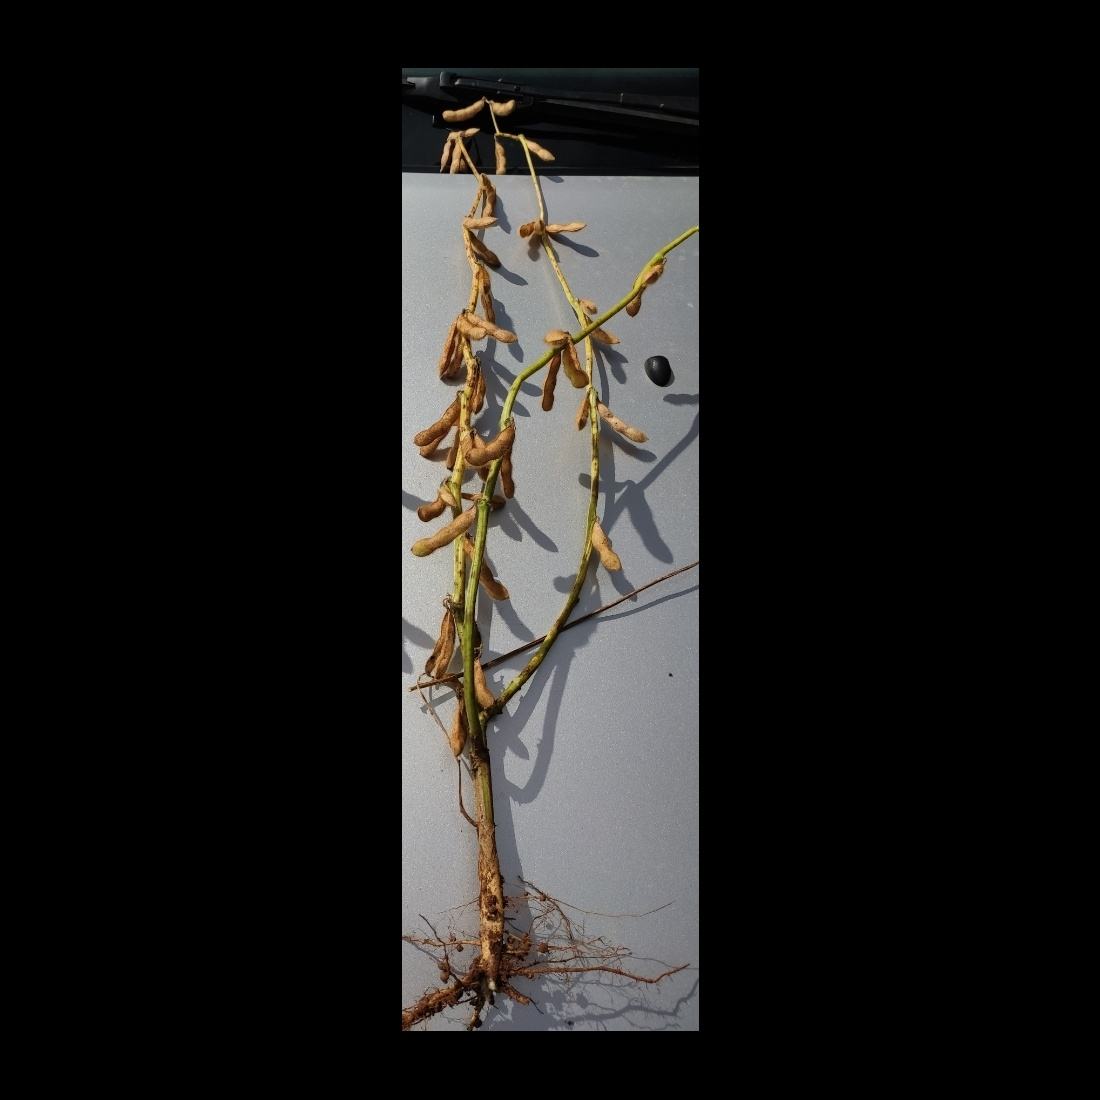pod: (410, 499, 485, 559), (410, 392, 467, 449), (590, 395, 652, 444), (462, 421, 528, 466), (457, 306, 519, 343), (538, 347, 564, 422), (438, 93, 491, 126), (471, 651, 498, 716), (592, 521, 622, 577), (516, 137, 557, 163), (543, 219, 587, 238), (455, 216, 507, 230), (494, 139, 510, 182)
soy: (407, 84, 678, 995)
